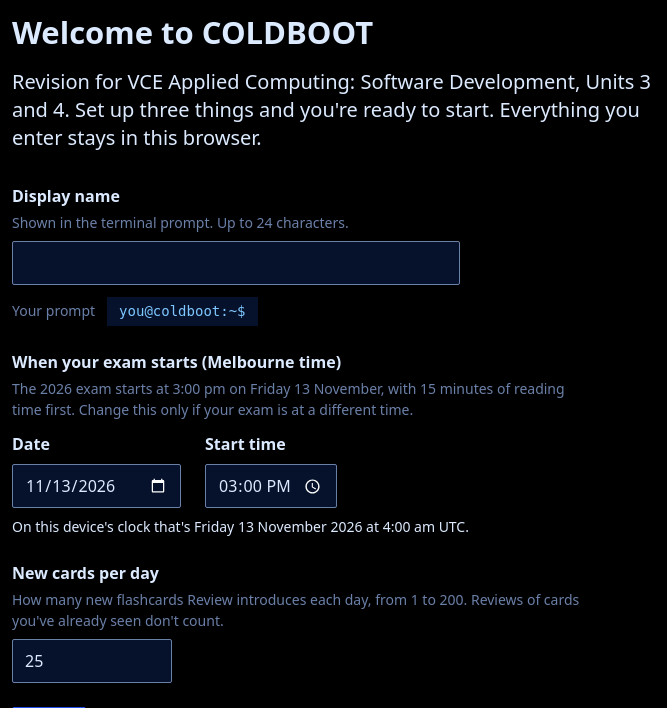
Scenario: FirstRun › previews the terminal prompt as the name is typed
This screenshot has width=667, height=708.
Expected: the text "you@coldboot:~$" is shown, [107,297,258,326]
Type "Lachie" into the field labelled "Display name".
click(236, 263); type("Lachie")  # box [12,241,460,285]
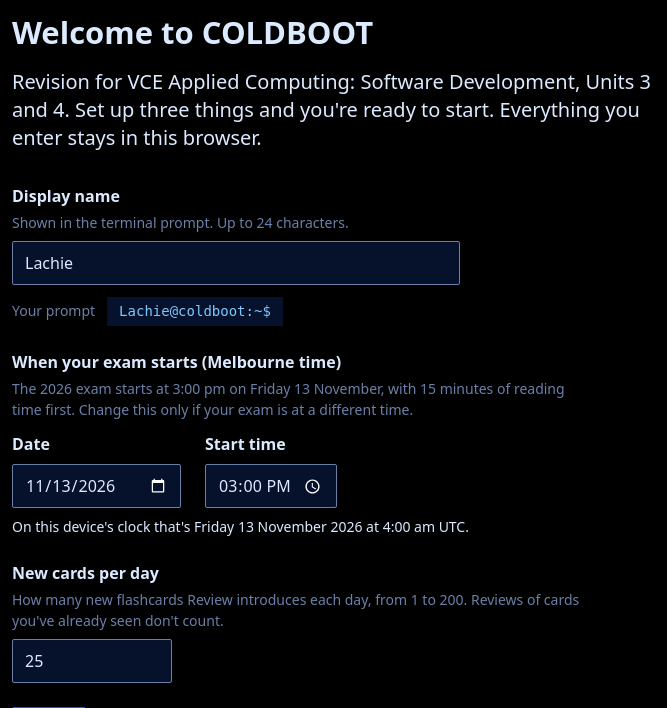
Now the text "Lachie@coldboot:~$" is shown, box [107,297,283,326]
